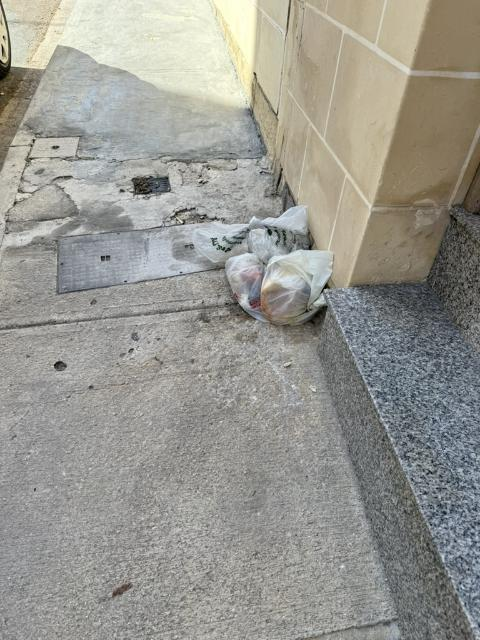Organic -White-: (196, 206, 310, 263), (261, 250, 332, 324), (226, 253, 269, 321)
